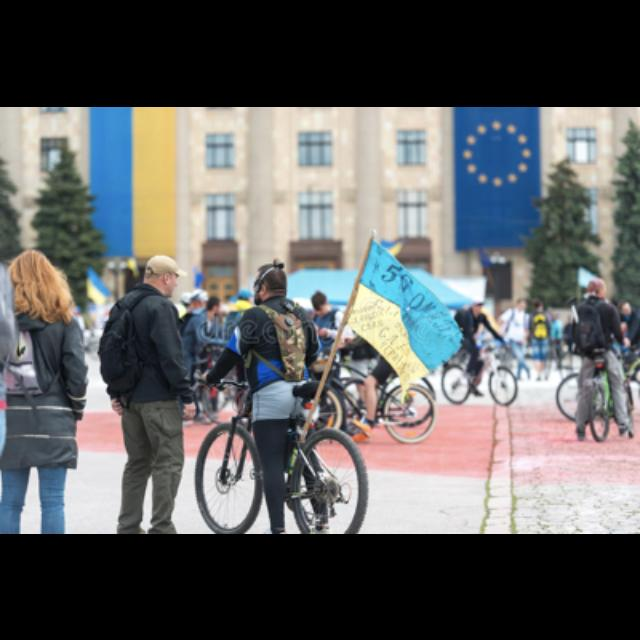Without Helmet: (134, 250, 190, 300), (250, 255, 292, 305)
